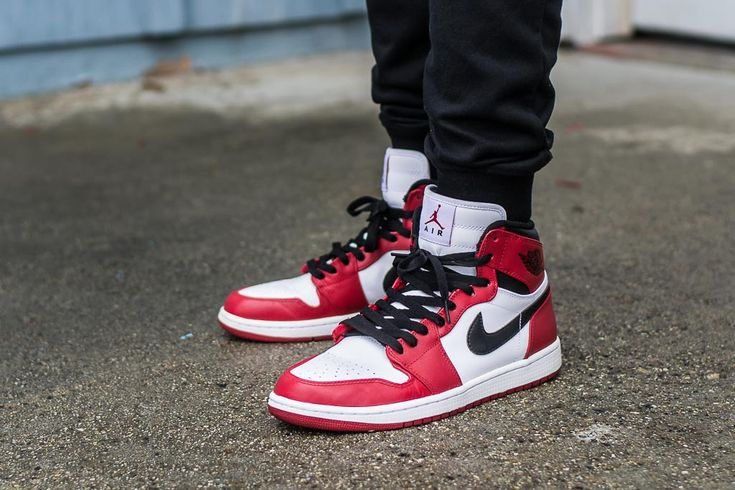Jordan 1: (267, 179, 566, 441)
